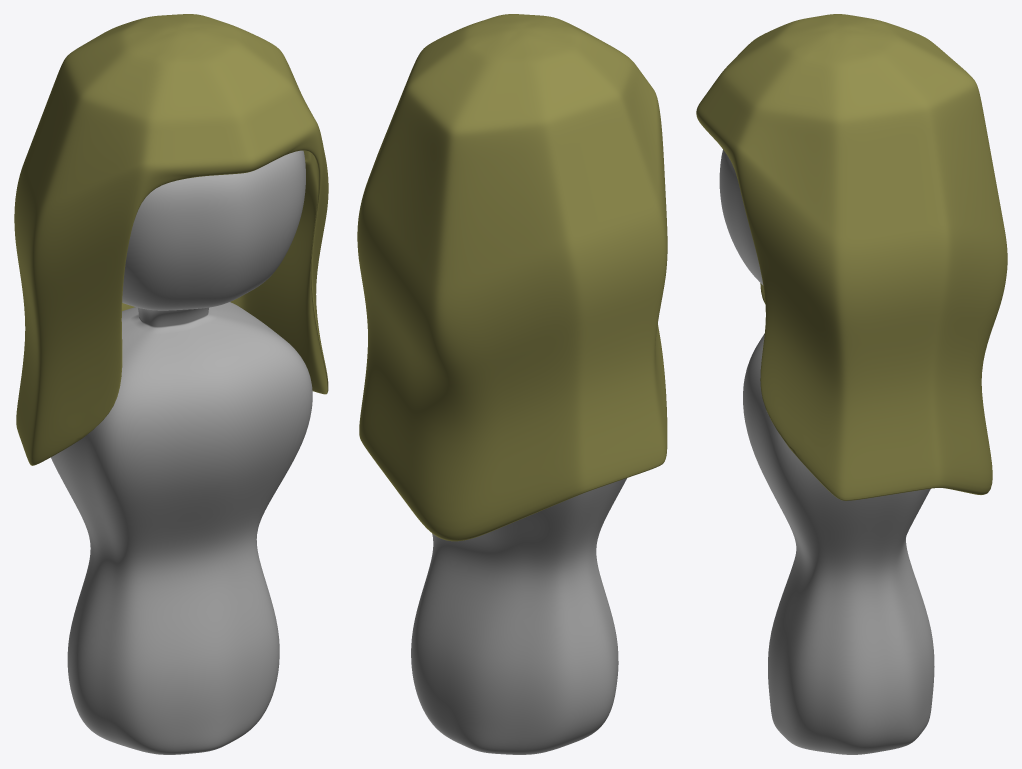
Rendered from NPCMujer.fbx.
3 views of the same model, side by side, from view 1: azimuth 30°, elevation 25°; view 2: azimuth 150°, elevation 25°; view 3: azimuth 270°, elevation 25° (orthographic).
Parts seen in each view (by area): view 1: Cuerpo_mujer1; view 2: Cuerpo_mujer1; view 3: Cuerpo_mujer1.
Boxes of the visible parts, left/top/right/bottom form: Cuerpo_mujer1: left=14, top=14, right=328, bottom=754; Cuerpo_mujer1: left=357, top=14, right=667, bottom=754; Cuerpo_mujer1: left=696, top=14, right=1007, bottom=754.
Bounding box in the file's own units: 77 × 176 × 71.1.
